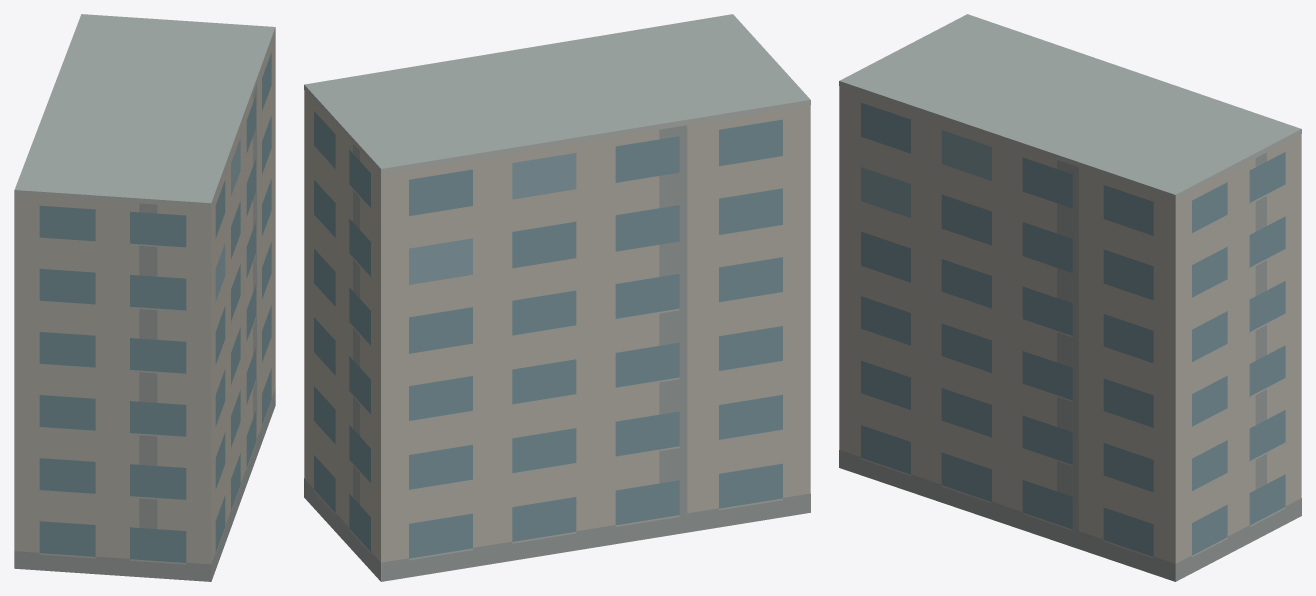
Rendered from survey-upis-32847664.glb.
The picture shows the model from 3 angles, left to right: view 1: azimuth 30°, elevation 25°; view 2: azimuth 150°, elevation 25°; view 3: azimuth 270°, elevation 25°; orthographic projection. The views are drawn at different scales.
Visible parts, largest first — view 1: survey-upis-32847664.tmp; view 2: survey-upis-32847664.tmp; view 3: survey-upis-32847664.tmp.
Boxes of the visible parts, x1,y1,x2,y2 form: survey-upis-32847664.tmp: (14,14,275,581); survey-upis-32847664.tmp: (304,14,810,581); survey-upis-32847664.tmp: (839,14,1301,581).
Size of the model in its own units: 18.36 by 18.3 by 19.83.
